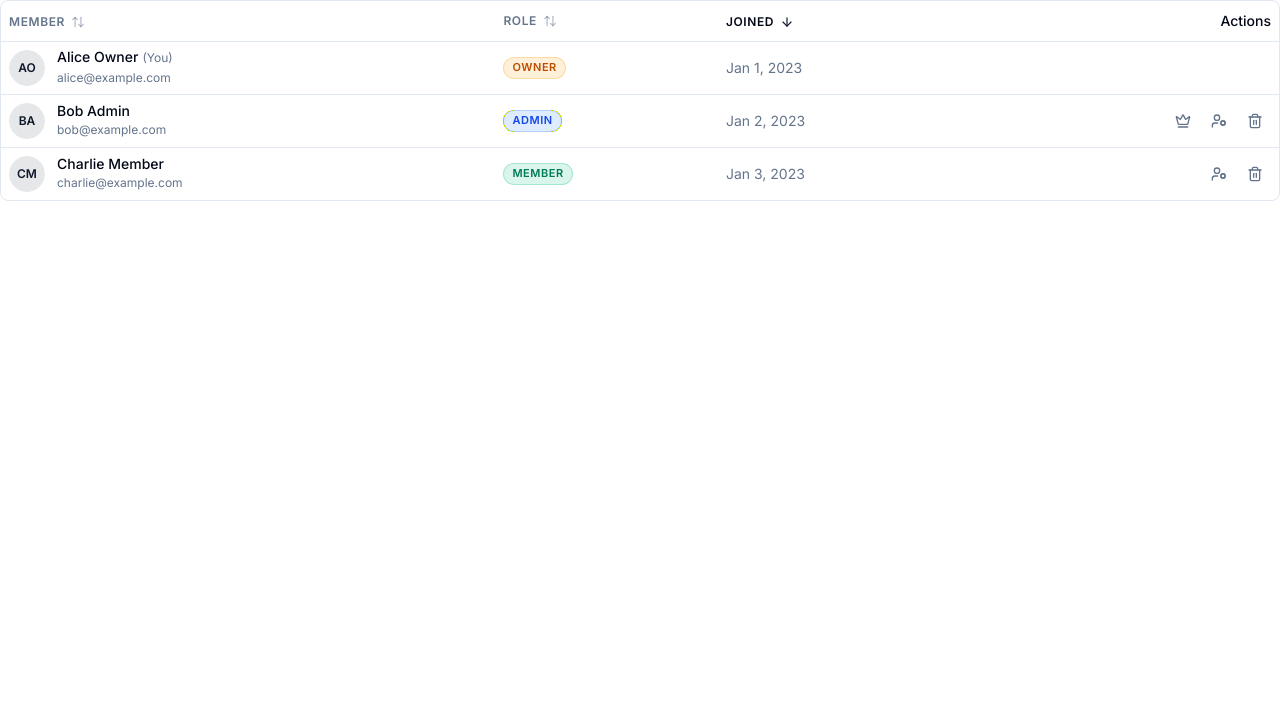
Test: MembersTable › should open dialogs when clicking action buttons
# Remove Charlie
Click the button named "remove".
click(1255, 174)  # box [1239,158,1271,190]
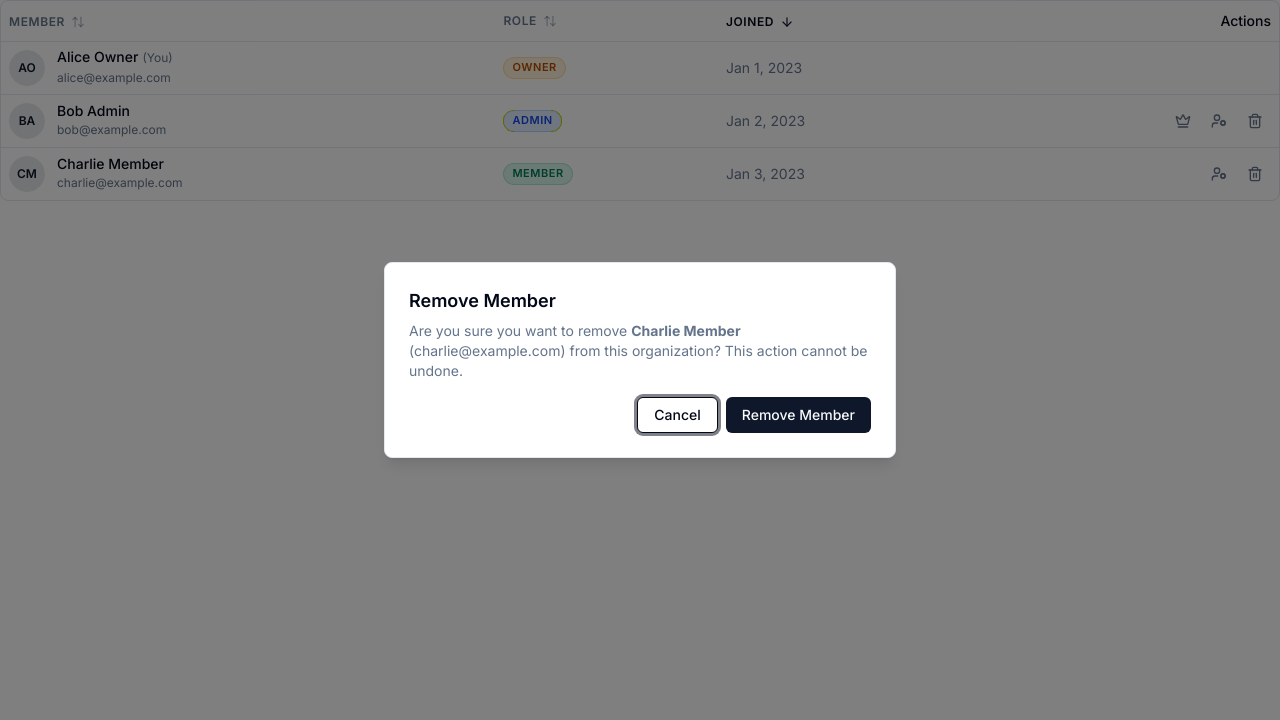
expect the dialog is shown: met, box [384,262,896,458]
expect the text "Are you sure you want to remove" is shown: met, box [409,322,631,339]
Click the button "Cancel".
click(678, 415)  # box [637,397,718,433]
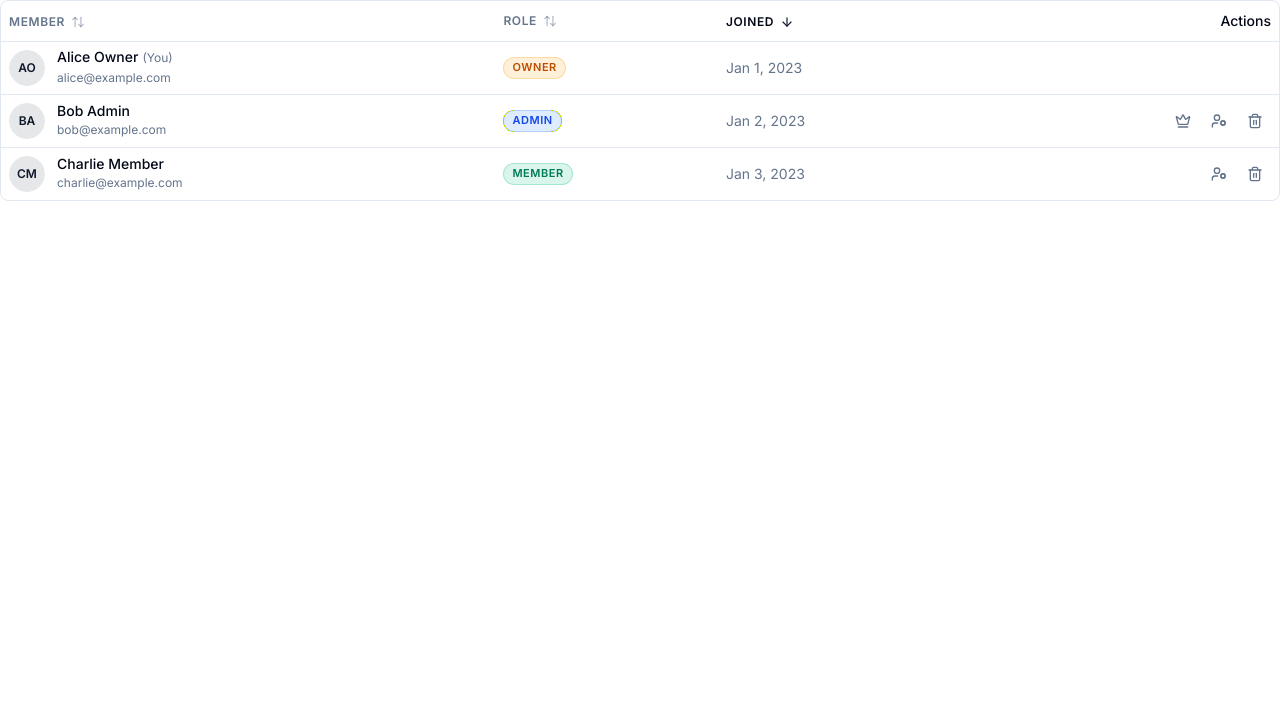
# Update Role for Charlie
Click the button named "update role for".
click(1219, 174)  # box [1203,158,1235,190]
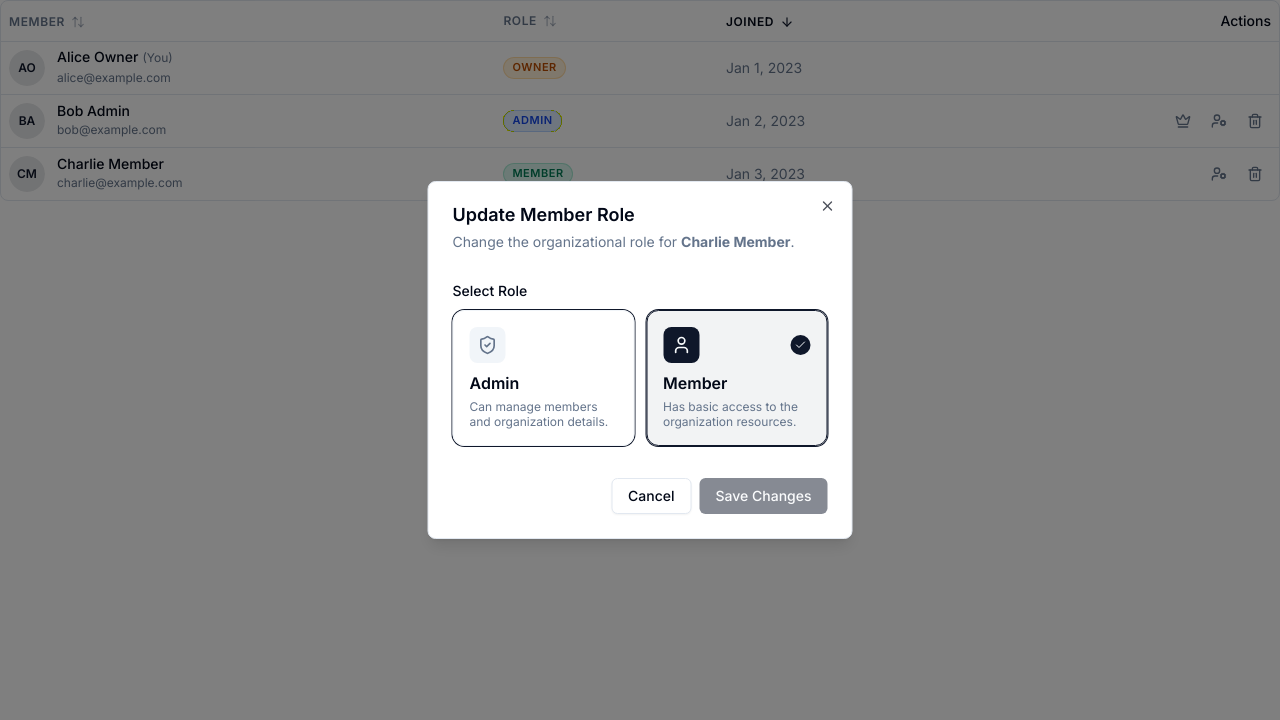
expect the heading "Update Member Role" is shown: met, box [452,204,635,225]
Click the button "Cancel".
click(651, 496)  # box [611,478,692,514]
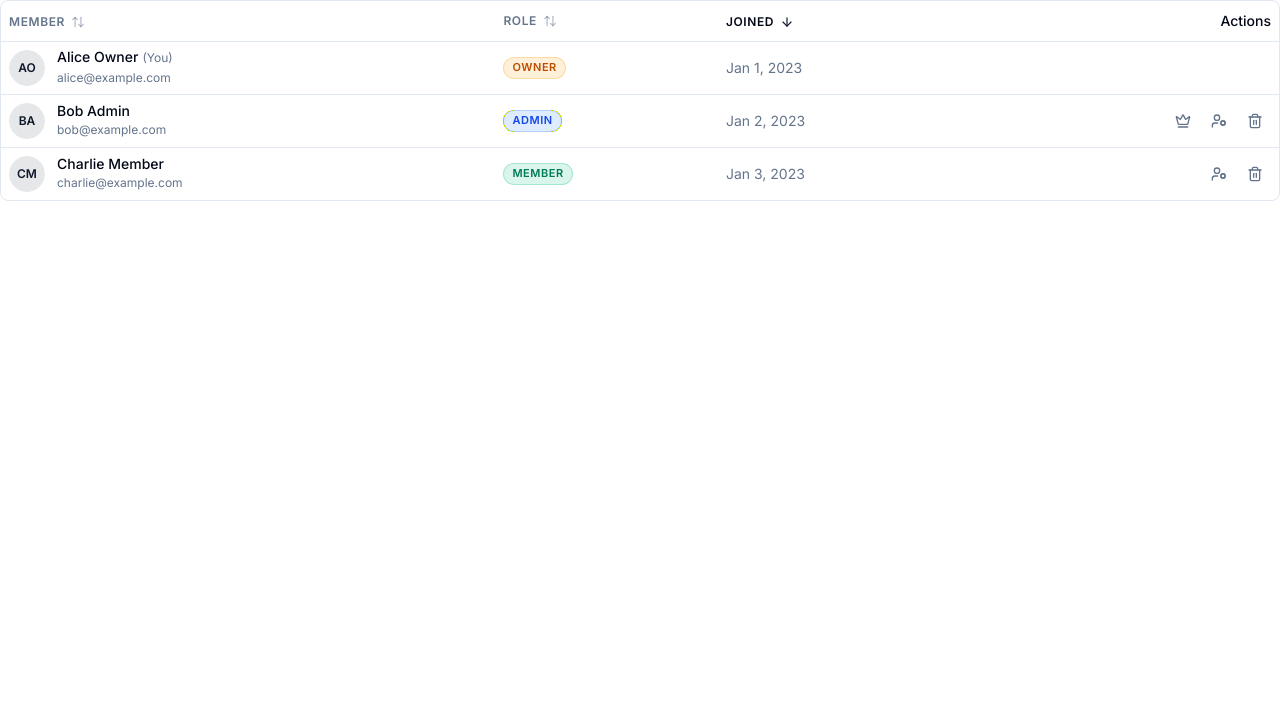
# Transfer Ownership to Bob
Click the button named "transfer ownership to".
click(1183, 120)  # box [1167,104,1199,136]
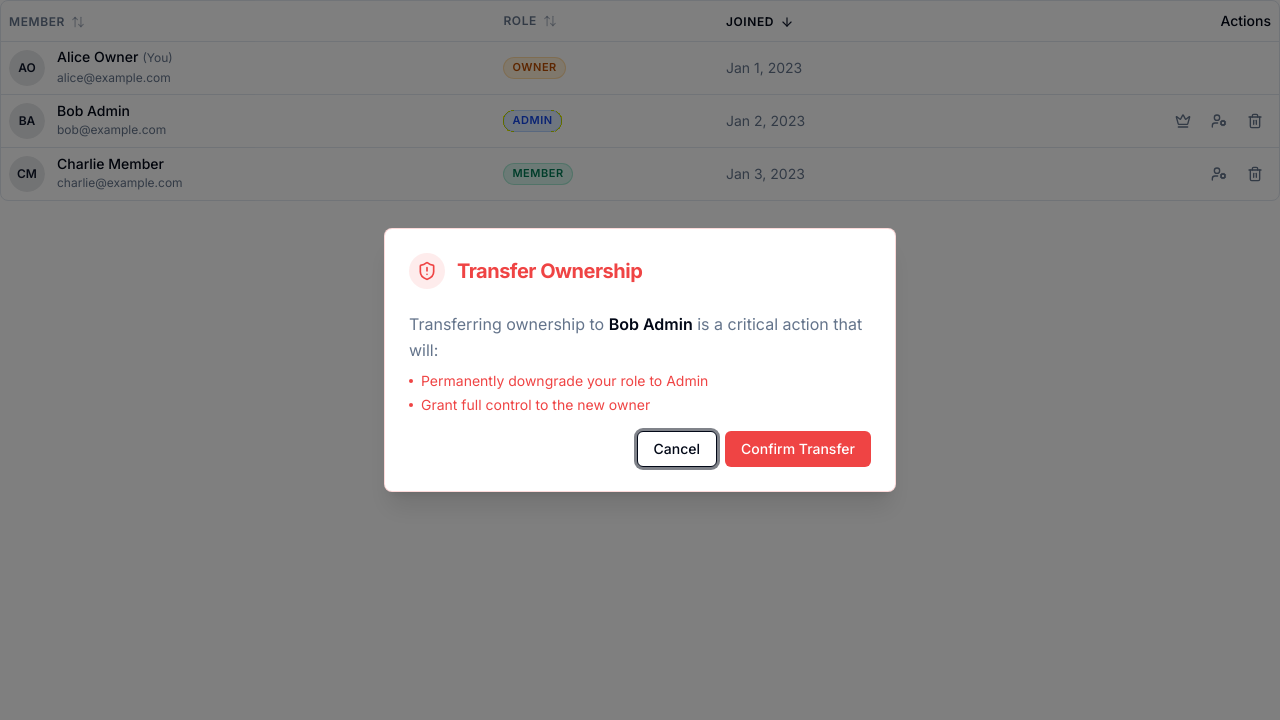
expect the heading "Transfer Ownership" is shown: met, box [457,257,642,285]
